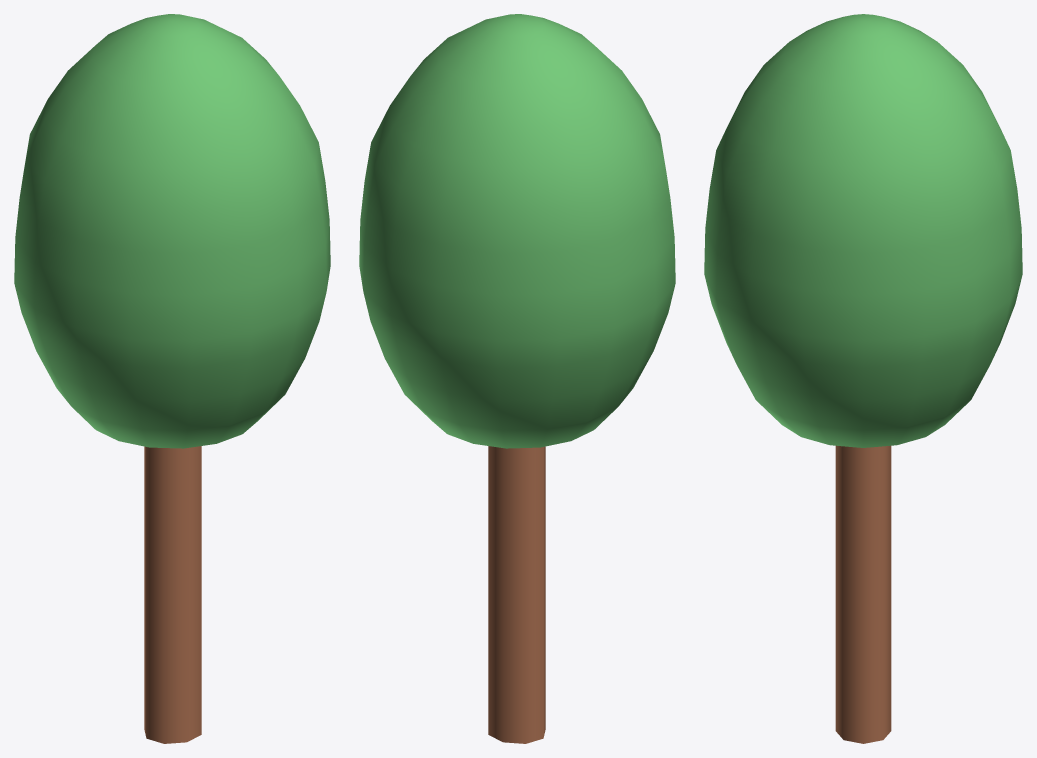
Rendered from Tree1.fbx.
3 renders of one model, left to right at view 1: azimuth 30°, elevation 25°; view 2: azimuth 150°, elevation 25°; view 3: azimuth 270°, elevation 25°, orthographic.
Visible parts, largest first — view 1: Tree; view 2: Tree; view 3: Tree.
Boxes of the visible parts, x1=… form: Tree: x1=14, y1=14, x2=330, y2=743; Tree: x1=359, y1=14, x2=675, y2=743; Tree: x1=704, y1=14, x2=1022, y2=743.
Bounding box in the file's own units: 555 × 1363 × 555.
